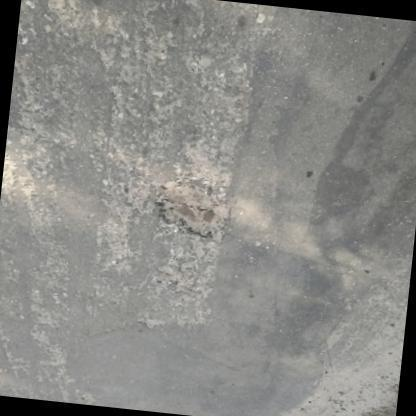pothole: (156, 177, 226, 241), (157, 257, 214, 329)
